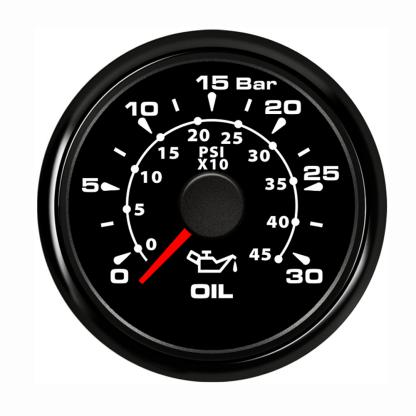needle: (138, 227, 193, 285)
